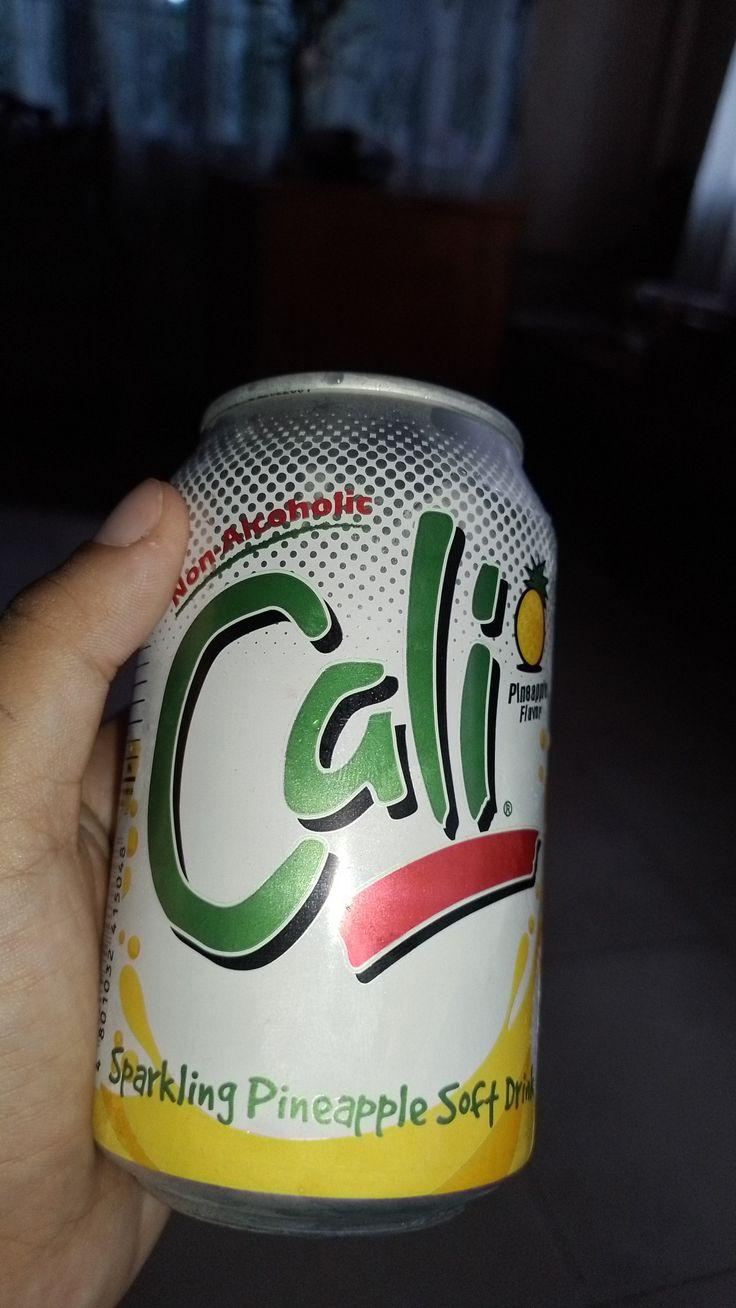can: (93, 374, 556, 1234)
